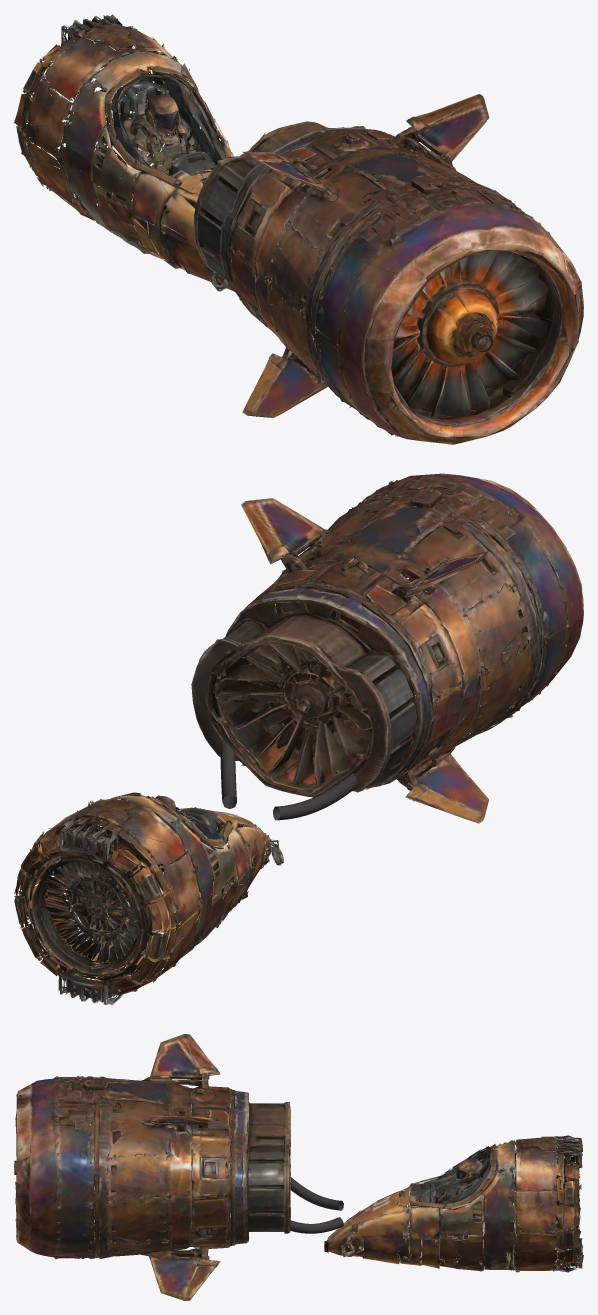
The model's file is crucible-rival.glb.
The picture shows the model from 3 angles, top to bottom: view 1: azimuth 30°, elevation 25°; view 2: azimuth 150°, elevation 25°; view 3: azimuth 270°, elevation 25°; orthographic projection. The views are drawn at different scales.
Visible parts, largest first — view 1: crucible-engine-body, crucible-cockpit-body; view 2: crucible-engine-body, crucible-cockpit-body, crucible-tow-cables; view 3: crucible-engine-body, crucible-cockpit-body, crucible-tow-cables.
Part boxes in pixels (x1=…): crucible-engine-body: x1=194, y1=94, x2=583, y2=444; crucible-cockpit-body: x1=14, y1=14, x2=252, y2=291; crucible-engine-body: x1=191, y1=473, x2=583, y2=823; crucible-cockpit-body: x1=14, y1=792, x2=283, y2=1005; crucible-tow-cables: x1=220, y1=743, x2=357, y2=820; crucible-engine-body: x1=14, y1=1034, x2=290, y2=1300; crucible-cockpit-body: x1=324, y1=1135, x2=583, y2=1272; crucible-tow-cables: x1=290, y1=1177, x2=343, y2=1233.
Bounding box in the file's own units: 4.09 × 4.46 × 11.95.
3 materials, 2 textured.
